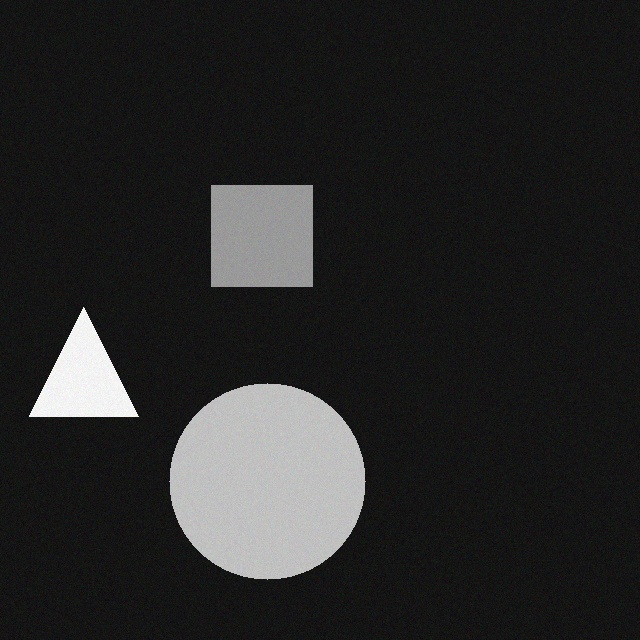circle: (163, 395, 359, 591)
square: (205, 197, 306, 298)
triangle: (23, 319, 132, 428)
